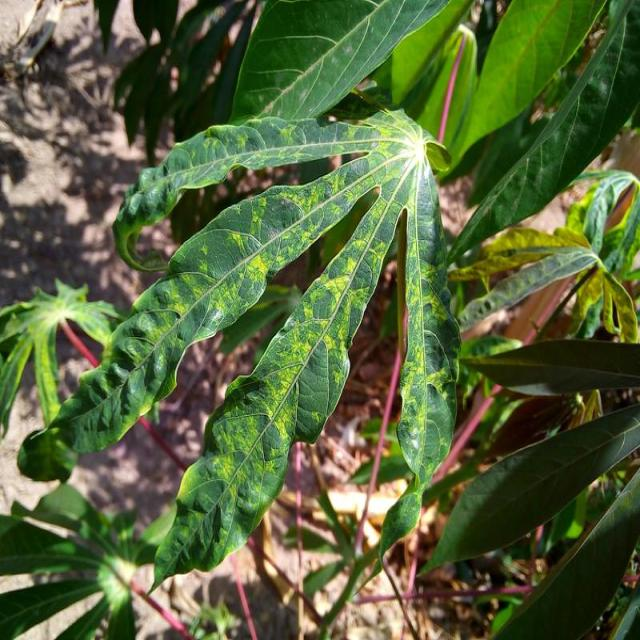cassava leaf: (16, 105, 462, 592)
